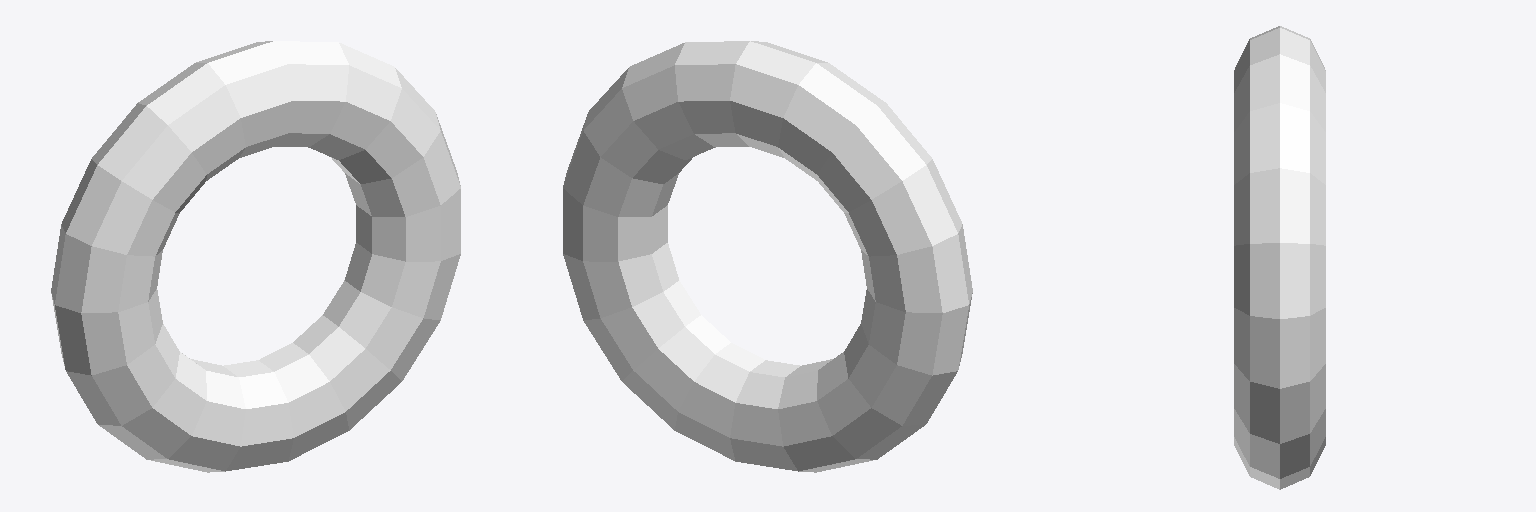
Rendered from Coin.obj.
The picture shows the model from 3 angles: view 1: azimuth 30°, elevation 25°; view 2: azimuth 150°, elevation 25°; view 3: azimuth 270°, elevation 25°; orthographic projection.
Visible parts, largest first — view 1: Coin; view 2: Coin; view 3: Coin.
Boxes of the visible parts, x1,y1,x2,y2 form: Coin: [51, 41, 460, 472]; Coin: [563, 41, 972, 472]; Coin: [1234, 26, 1325, 489].
Bounding box in the file's own units: 1 × 1 × 0.2.